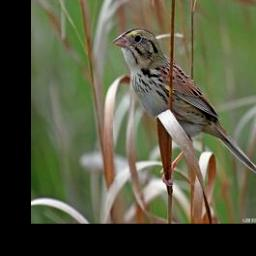Sparrow: (110, 27, 256, 186)
